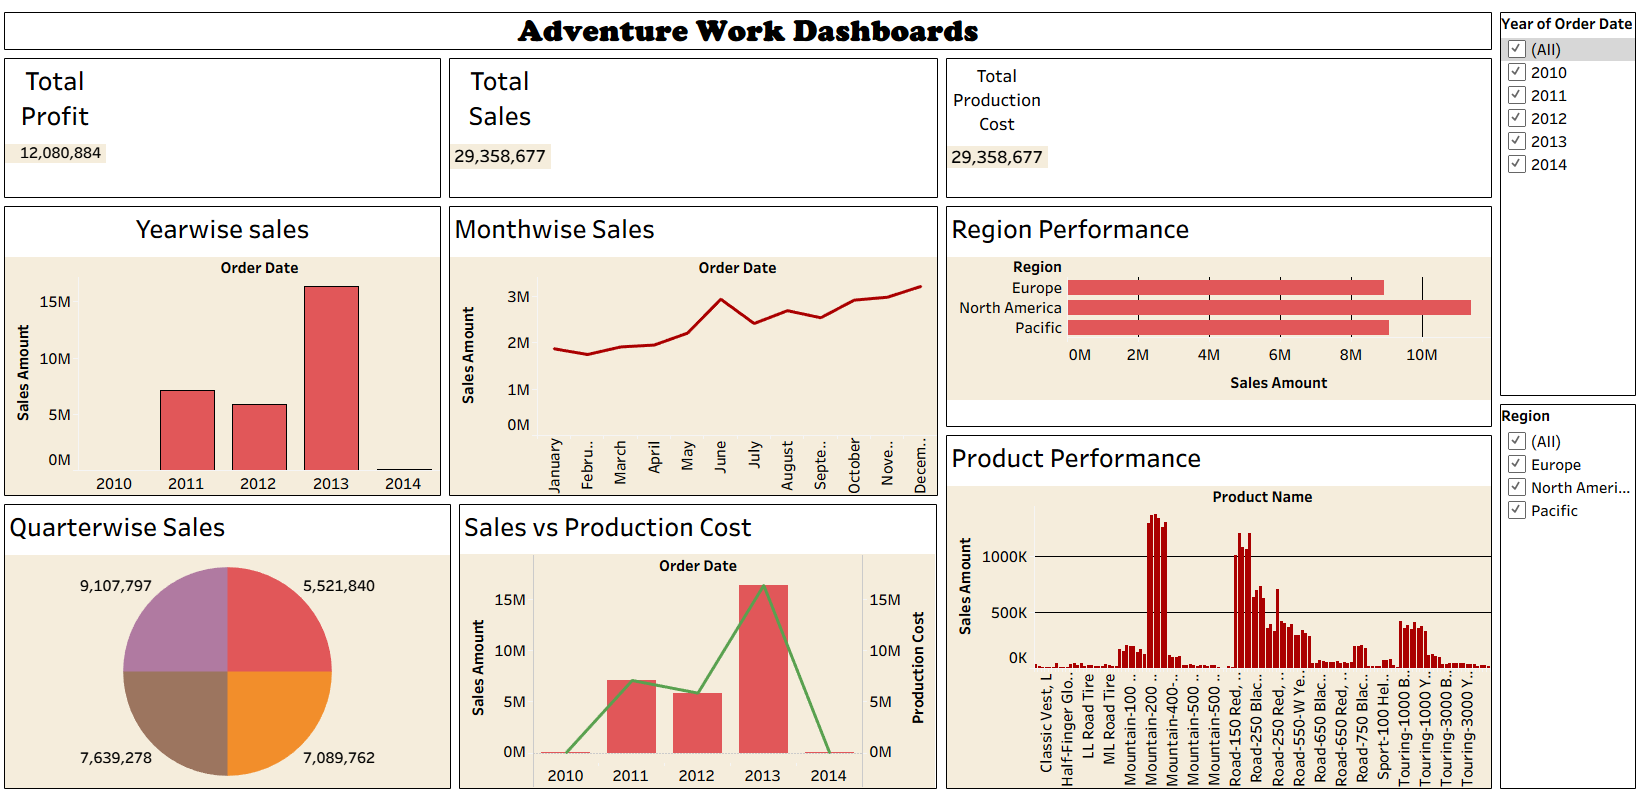

The page's visual inventory and layout, read from the dashboard file:
{"tool":"tableau","page":{"name":"Dashboard 1","canvas":[1000,1000],"units":"permille","ordinal":0},"visuals":[{"type":"title","box":[4.8,10,902.8,57.4]},{"type":"filter","title":"Yearwise sales","param":"[federated.0j752zx1gs7kik1c1m64618muke2].[yr:OrderDate:ok]","box":[907.7,10,87.5,489.4]},{"type":"worksheet","title":"Total Profit","mark":"Automatic","box":[4.8,67.4,268.3,185.2]},{"type":"worksheet","title":"Total Sales","mark":"Automatic","box":[273.1,67.4,300,184.8]},{"type":"worksheet","title":"Total Production Cost","mark":"Automatic","box":[573.1,67.4,334.6,185.2]},{"type":"worksheet","title":"Monthwise Sales","mark":"Line","rows":["SalesAmount"],"cols":["OrderDate"],"box":[273.1,252.2,300,372.3]},{"type":"worksheet","title":"Yearwise sales","mark":"Bar","rows":["SalesAmount"],"cols":["OrderDate"],"box":[4.8,252.7,268.3,371.8]},{"type":"worksheet","title":"Region Performance","mark":"Automatic","rows":["Region"],"cols":["SalesAmount"],"box":[573.1,252.7,334.6,286]},{"type":"filter","title":"Region Performance","param":"[federated.0j752zx1gs7kik1c1m64618muke2].[none:Region:nk]","box":[907.7,499.4,87.5,490.6]},{"type":"worksheet","title":"Product Performance","mark":"Bar","rows":["SalesAmount"],"cols":["Product Name"],"box":[573.1,538.6,334.6,451.4]},{"type":"worksheet","title":"Quarterwise Sales","mark":"Pie","box":[4.8,624.4,274.8,365.6]},{"type":"worksheet","title":"Sales vs Production Cost","mark":"Automatic","rows":["SalesAmount","Production Cost"],"cols":["OrderDate"],"box":[279.6,624.4,293.5,365.6]}]}

Visuals, with their boxes on the dashboard's canvas, which has no fixed pixel size, in thousandths of its width and height (x1, y1, x2, y2). These are canvas units, not pixel positions in the 1637x792 screenshot, which may show the page scaled, cropped or inside an application window:
title: pyautogui.locateOnScreen(5, 10, 908, 67)
"Yearwise sales" filter: pyautogui.locateOnScreen(908, 10, 995, 499)
"Total Profit" worksheet: pyautogui.locateOnScreen(5, 67, 273, 253)
"Total Sales" worksheet: pyautogui.locateOnScreen(273, 67, 573, 252)
"Total Production Cost" worksheet: pyautogui.locateOnScreen(573, 67, 908, 253)
"Monthwise Sales" worksheet (Line marks): pyautogui.locateOnScreen(273, 252, 573, 624)
"Yearwise sales" worksheet (Bar marks): pyautogui.locateOnScreen(5, 253, 273, 624)
"Region Performance" worksheet: pyautogui.locateOnScreen(573, 253, 908, 539)
"Region Performance" filter: pyautogui.locateOnScreen(908, 499, 995, 990)
"Product Performance" worksheet (Bar marks): pyautogui.locateOnScreen(573, 539, 908, 990)
"Quarterwise Sales" worksheet (Pie marks): pyautogui.locateOnScreen(5, 624, 280, 990)
"Sales vs Production Cost" worksheet: pyautogui.locateOnScreen(280, 624, 573, 990)
